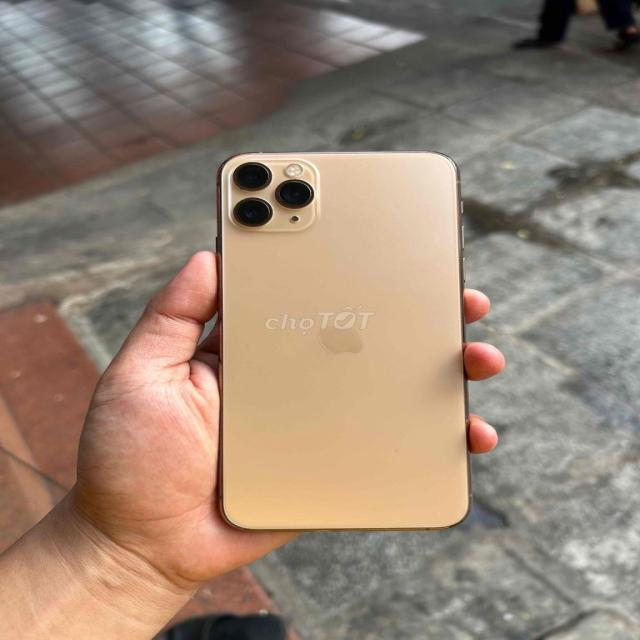gen_11: (208, 141, 482, 537)
